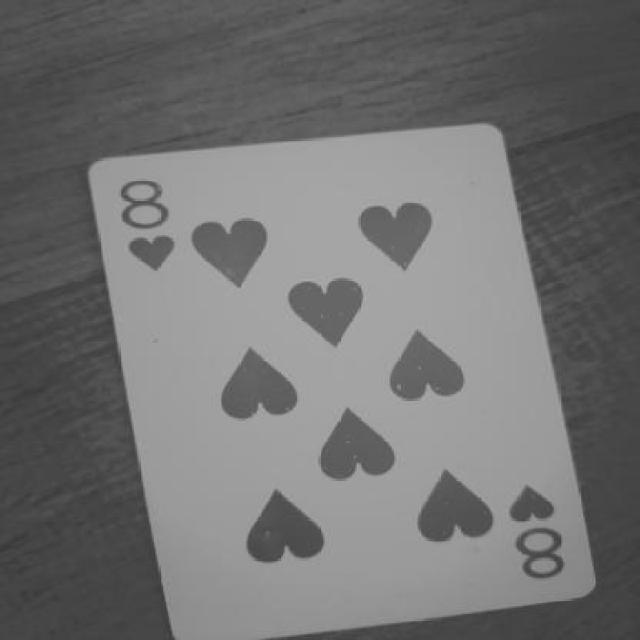8H: (105, 171, 202, 277), (498, 478, 587, 576)
